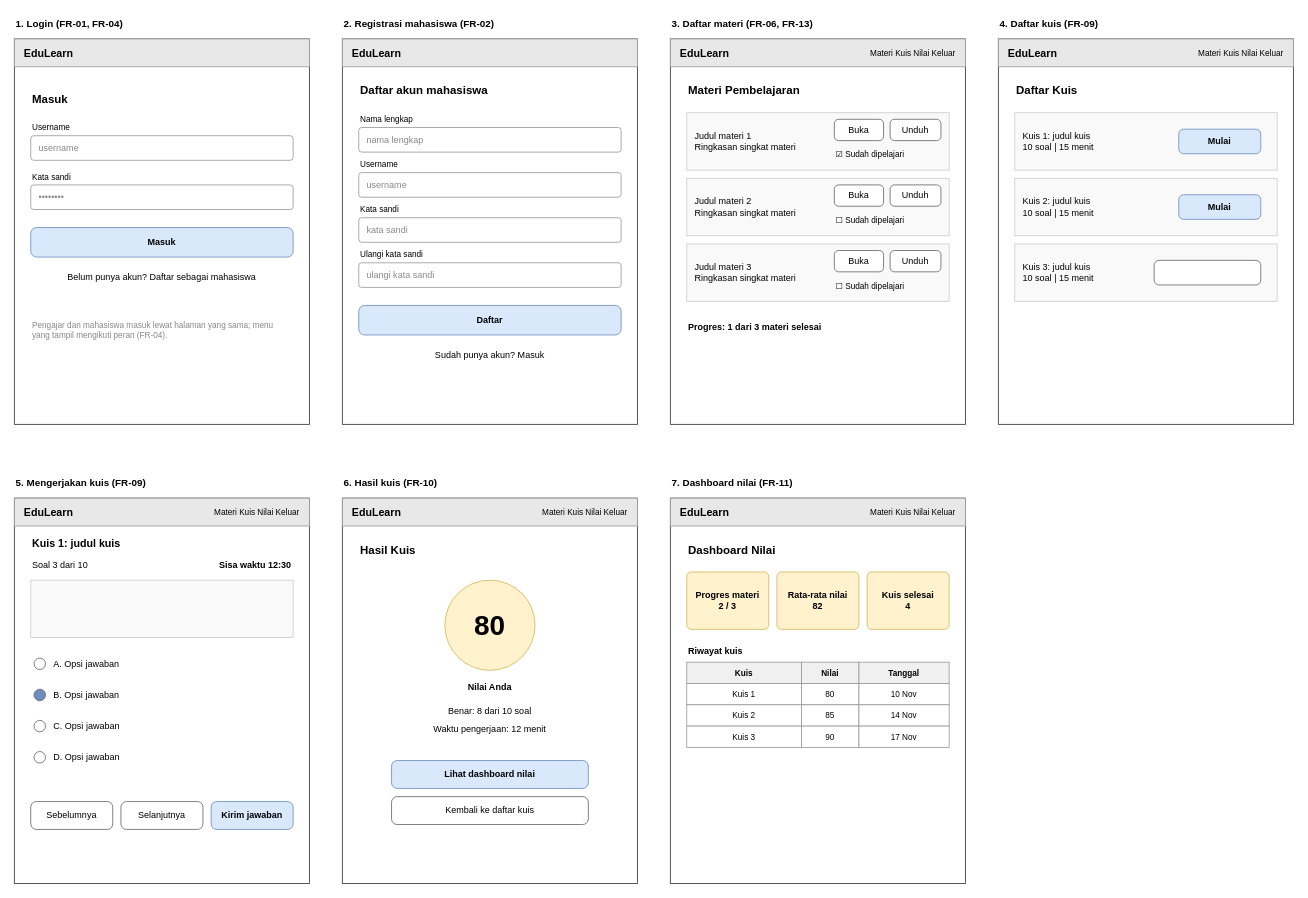
Image size: 1308x898. Some labels were removed from this diagram. The shapes that lost their labels are listed below. From the top down, each one's centre as x and y in pixels, then its label:
At point (1207, 272): "Sudah dikerjakan".
At point (161, 608): "Teks pertanyaan ditampilkan di sini?".
